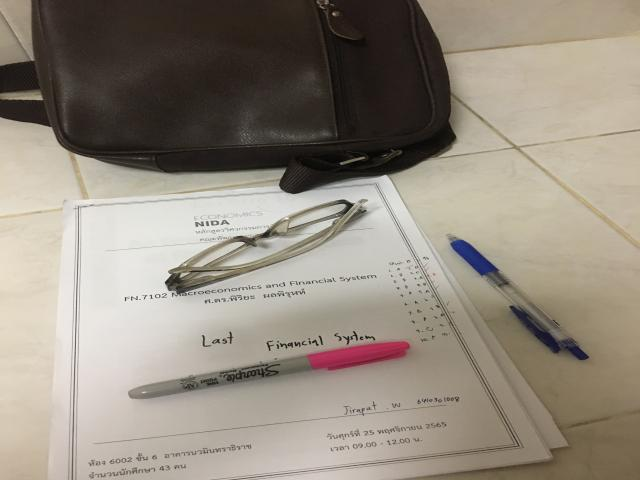Glasses: (165, 199, 367, 292)
Pen: (447, 233, 588, 360), (128, 341, 410, 399)
paper: (48, 176, 567, 480)
